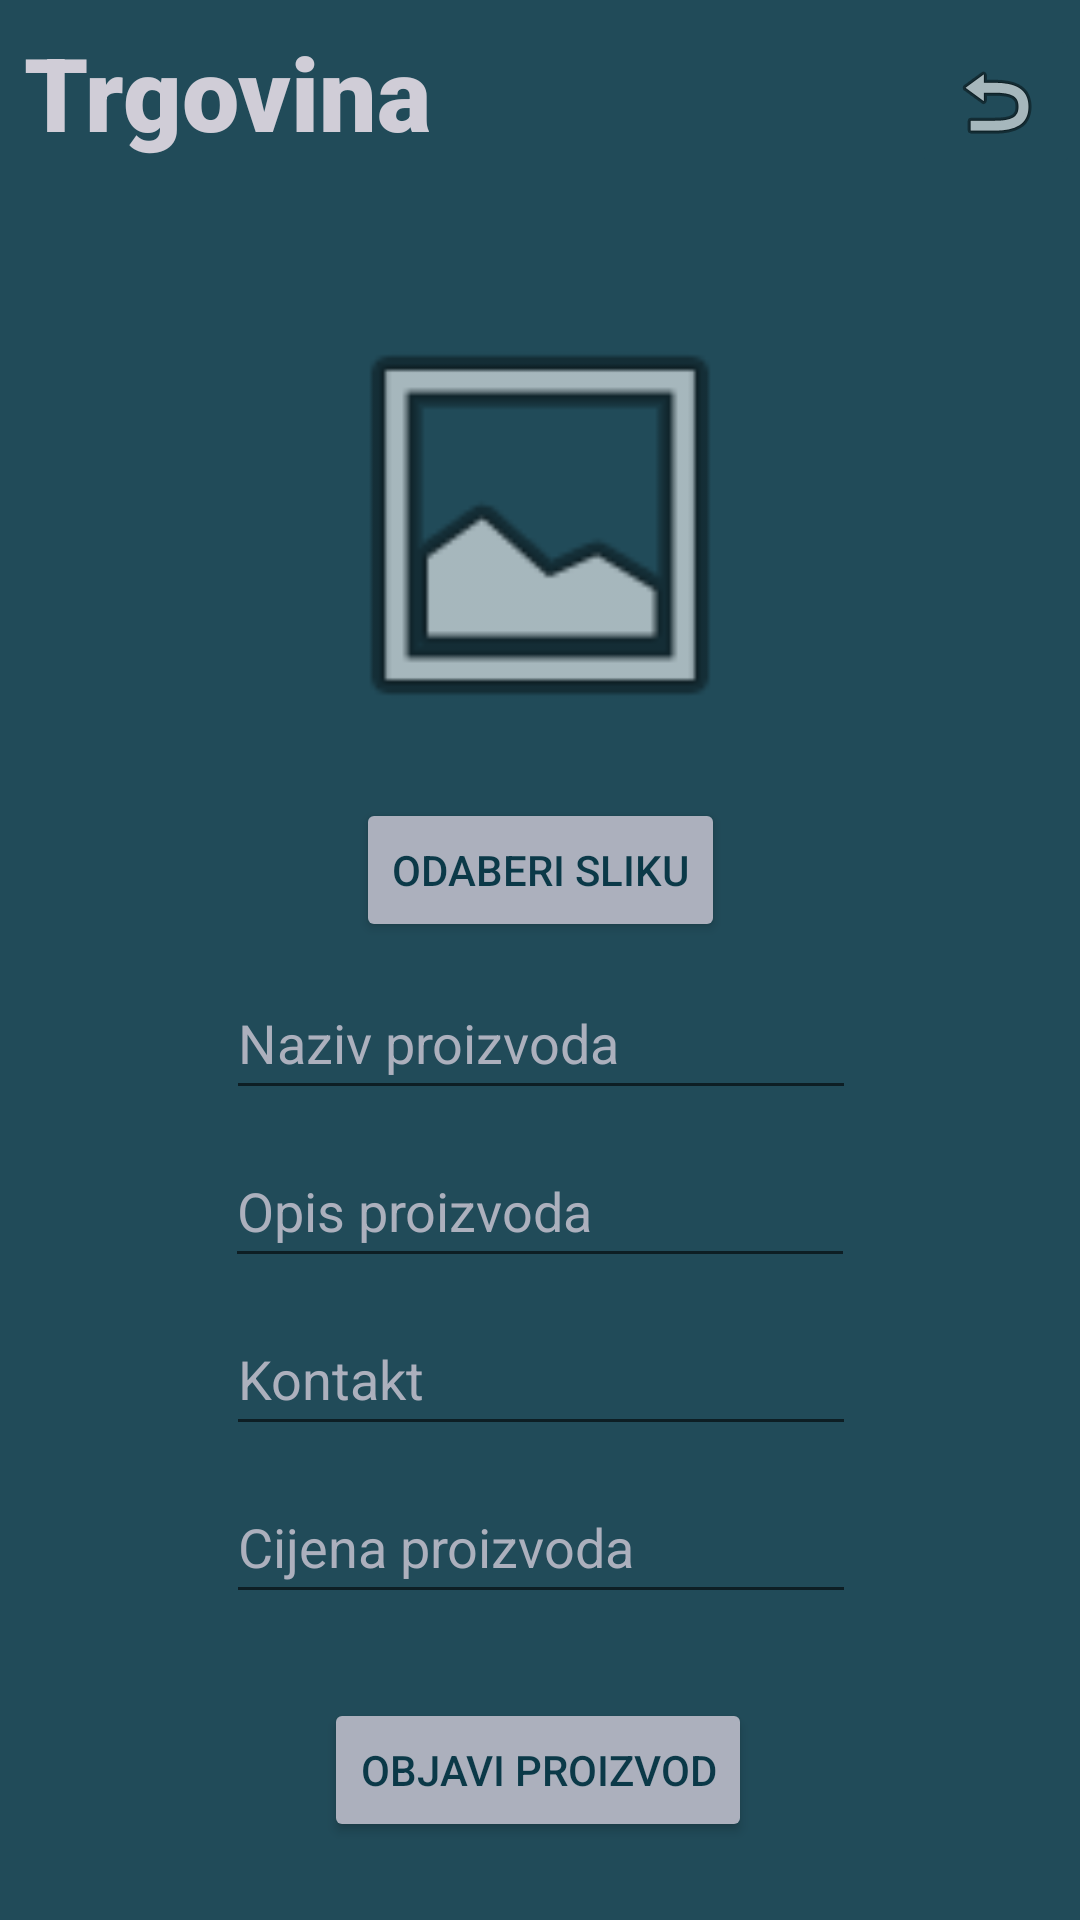

Icon bounding boxes for this 1080 x 1920 phone screenshot, format (x1, y1, x2, y2):
Back: (963, 72, 1031, 133)
gallery: (372, 357, 708, 693)
